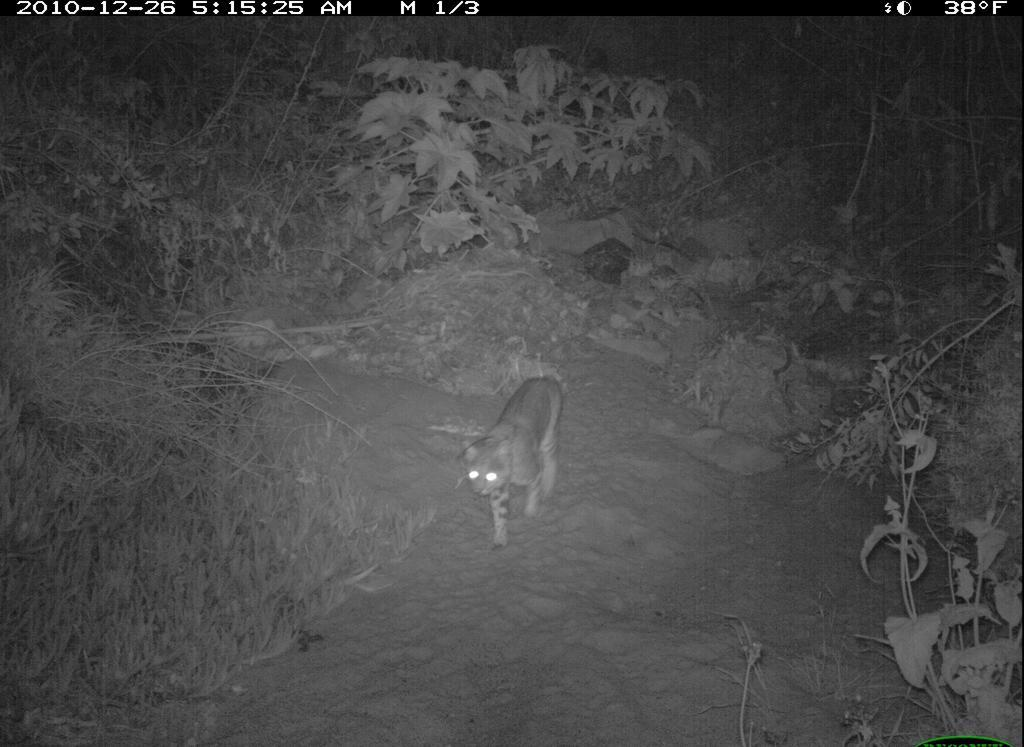bobcat: (456, 374, 577, 553)
